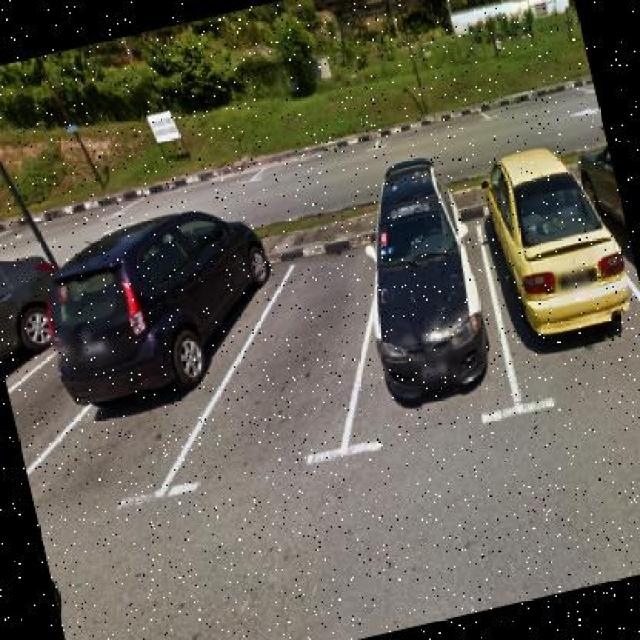Car: (10, 192, 295, 450), (328, 115, 517, 449), (473, 115, 640, 367), (1, 206, 67, 360)
Empty: (203, 249, 407, 476)
